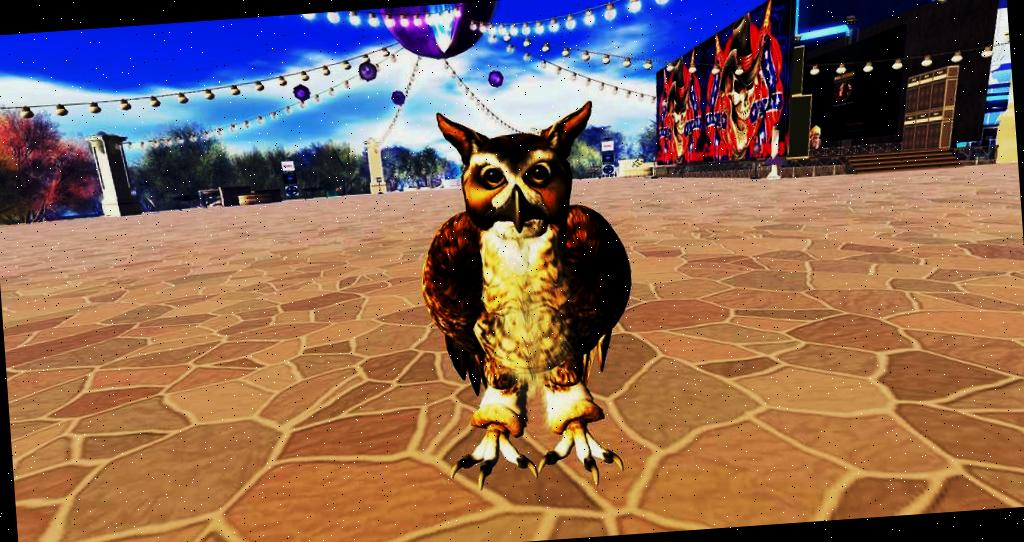Owl: (405, 99, 645, 499)
